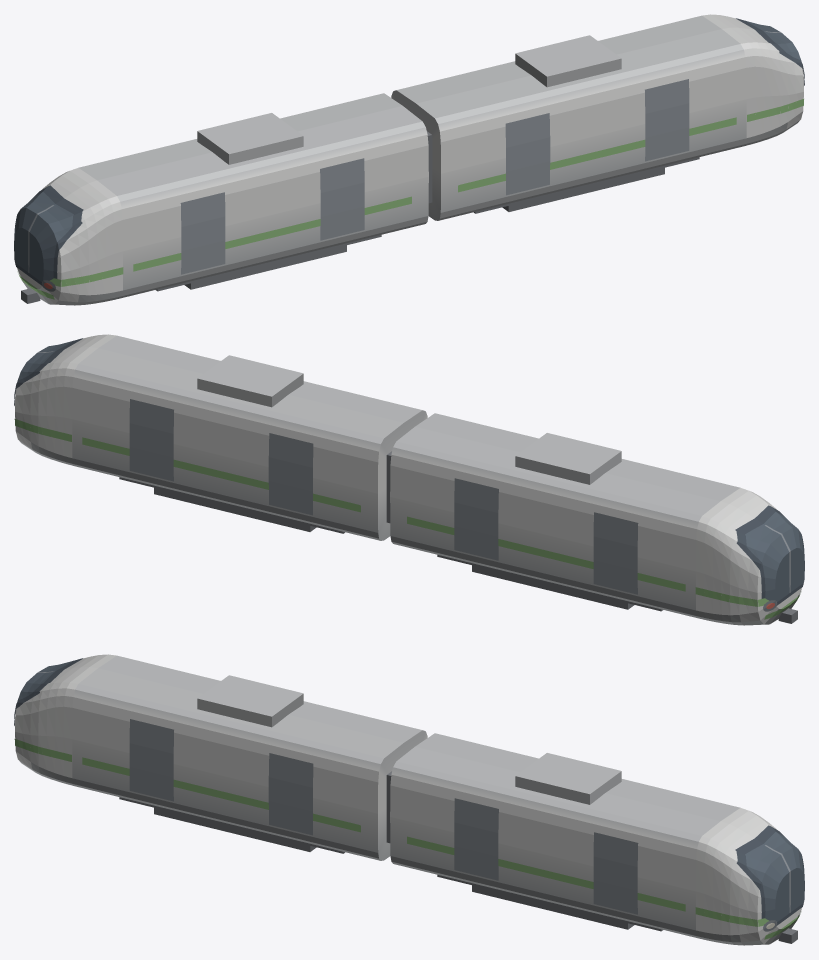
Rendered from 06_more_transit_3x2-01.glb.
3 views of the same model, one above another, from view 1: azimuth 30°, elevation 25°; view 2: azimuth 150°, elevation 25°; view 3: azimuth 330°, elevation 25° (orthographic).
Bounding box in the file's own units: 22.68 × 3.48 × 2.64.
